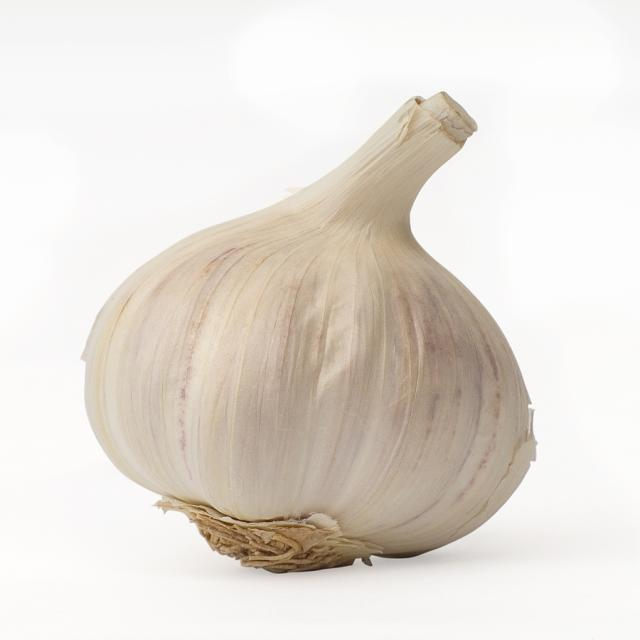garlic: (82, 92, 534, 571)
